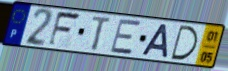2: (23, 6, 54, 48)
A: (141, 23, 170, 59)
D: (170, 24, 200, 62)
E: (109, 19, 142, 56)
F: (46, 10, 83, 49)
T: (90, 15, 113, 52)
